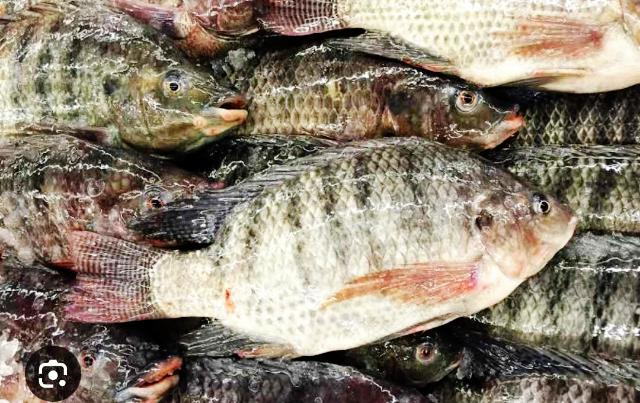Healthy Fish: (66, 137, 580, 361)
